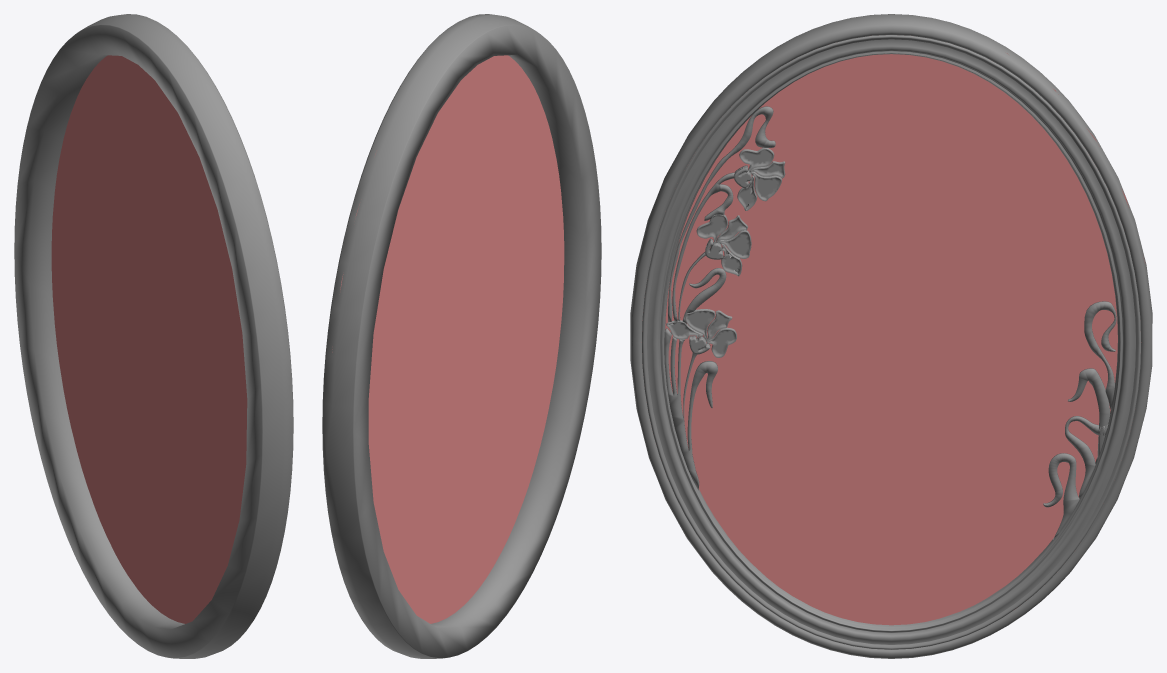
Rendered from mirror2.fbx.
The picture shows the model from 3 angles, left to right: view 1: azimuth 30°, elevation 25°; view 2: azimuth 150°, elevation 25°; view 3: azimuth 270°, elevation 25°; orthographic projection. The views are drawn at different scales.
Parts seen in each view (by area): view 1: mirror2; view 2: mirror2; view 3: mirror2.
Part boxes in pixels (<box>): mirror2: <box>14,14,293,658</box>; mirror2: <box>322,14,601,658</box>; mirror2: <box>630,14,1152,658</box>.
Size of the model in its own units: 10.01 by 180 by 134.
